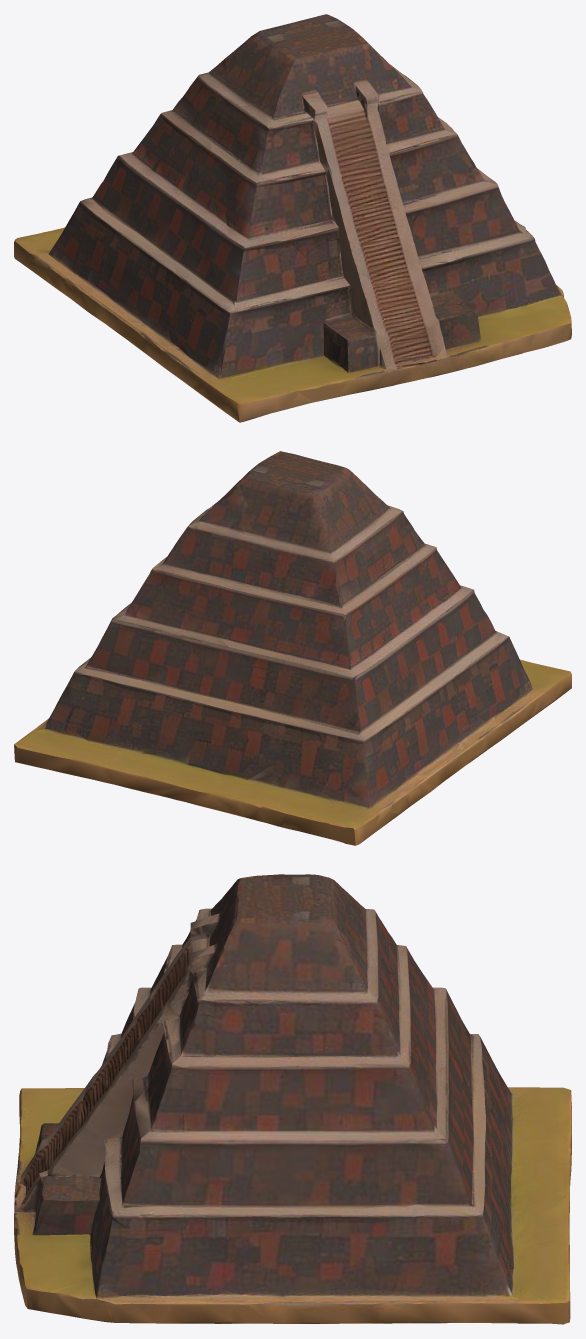
Rendered from pyramid-of-the-sun.glb.
3 views of the same model, one above another, from view 1: azimuth 30°, elevation 25°; view 2: azimuth 150°, elevation 25°; view 3: azimuth 270°, elevation 25° (orthographic). The views are drawn at different scales.
Visible parts, largest first — view 1: logan-textured.obj; view 2: logan-textured.obj; view 3: logan-textured.obj.
Boxes of the visible parts, <box> form: logan-textured.obj: <box>14,14,571,422</box>; logan-textured.obj: <box>14,451,571,845</box>; logan-textured.obj: <box>14,874,571,1324</box>.
Size of the model in its own units: 0.9202 by 0.6365 by 1.
1 material, 1 textured.
